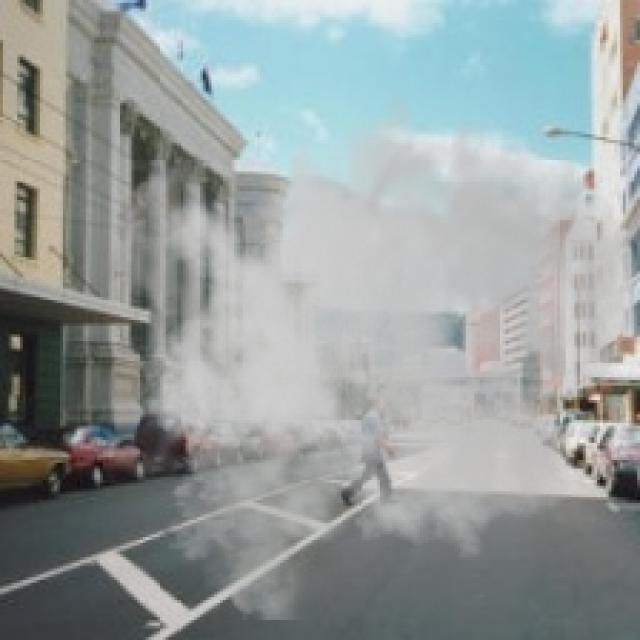smoke: (109, 66, 637, 623)
